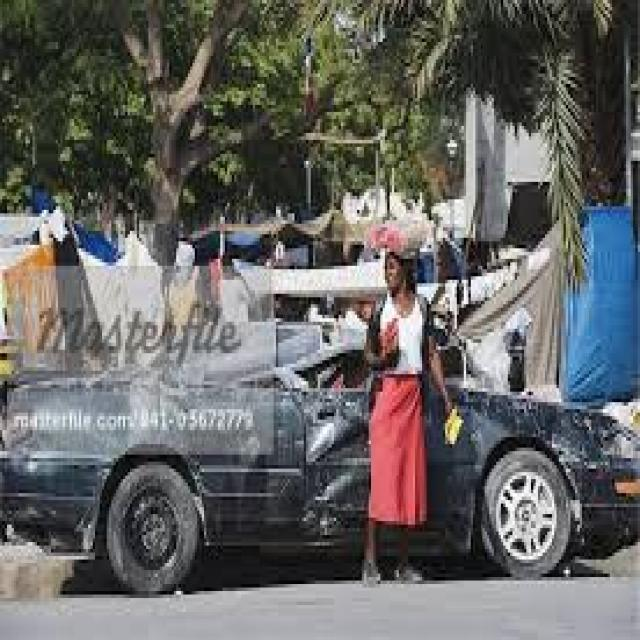moderate: (296, 346, 360, 524)
